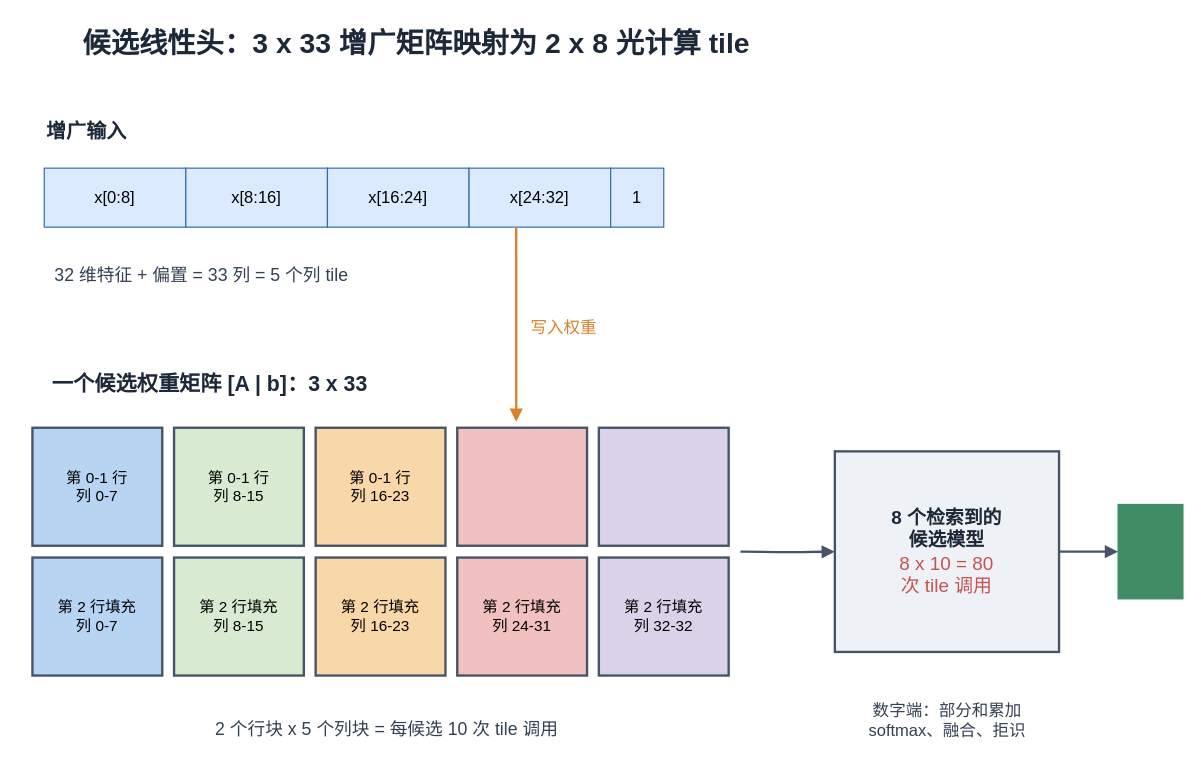
The diagram is 1204 pixels wide and 772 high, and some of its shapes have lost their labels. The centre of each missing label's shape, as x and y in pixels:
"三类 得分" belongs at point 1150,551.
"第 0-1 行 列 24-31" belongs at point 521,486.
"第 0-1 行 列 32-32" belongs at point 663,486.
